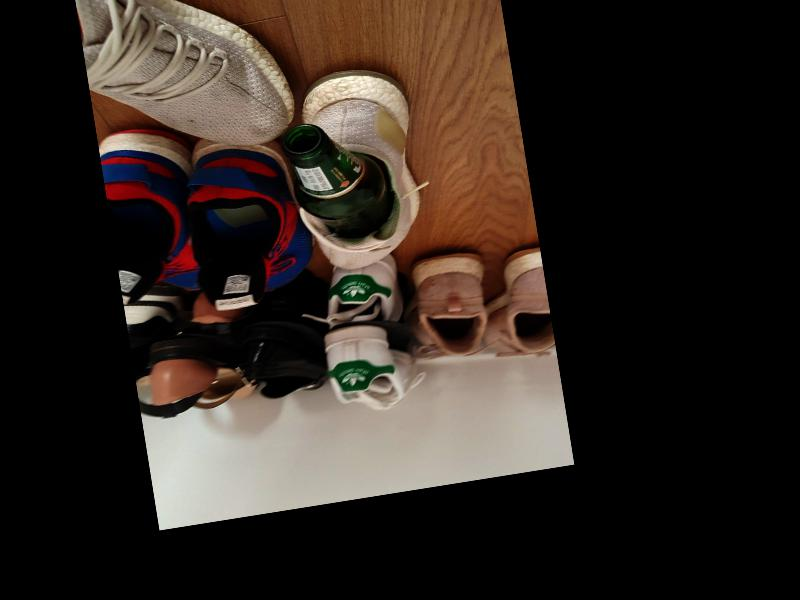Beer: (281, 113, 395, 245)
